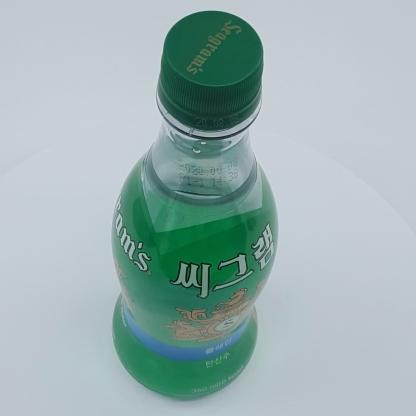--------350ML: (110, 10, 279, 398)
